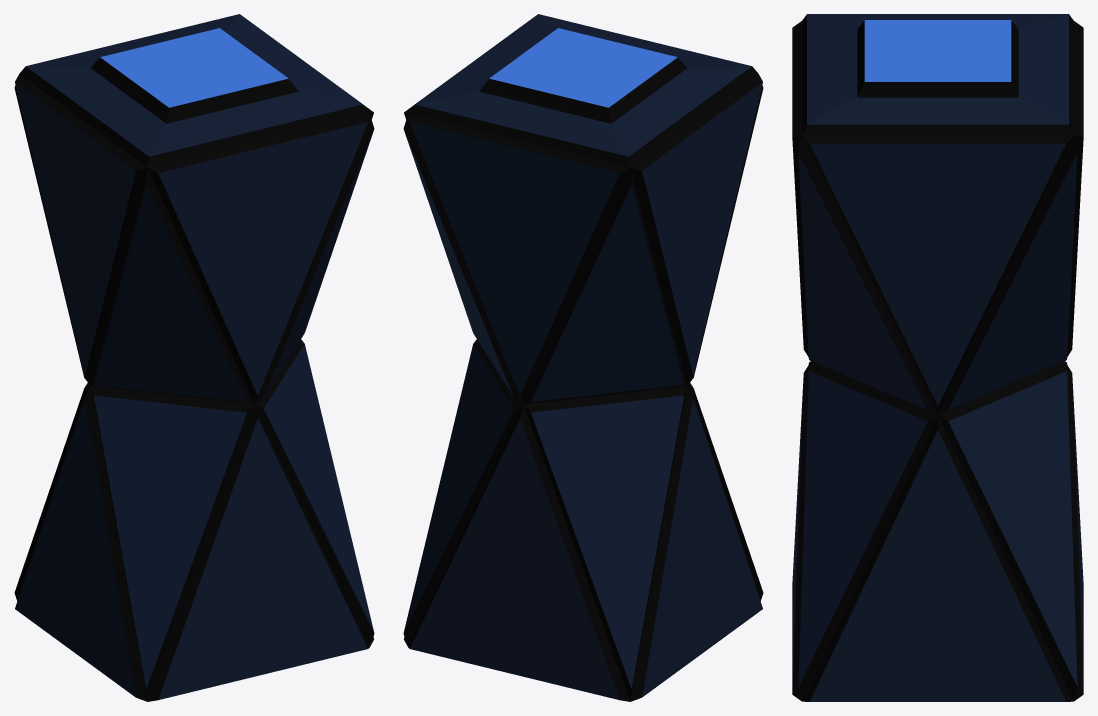
Rendered from Pedestal 1.FBX.
3 renders of one model, left to right at view 1: azimuth 30°, elevation 25°; view 2: azimuth 150°, elevation 25°; view 3: azimuth 270°, elevation 25°, orthographic. The views are drawn at different scales.
Visible parts, largest first — view 1: Pedestal; view 2: Pedestal; view 3: Pedestal.
Part boxes in pixels (x1,y1,x2,y2): Pedestal: [14, 14, 374, 701]; Pedestal: [403, 14, 763, 701]; Pedestal: [792, 14, 1083, 701].
Bounding box in the file's own units: 53.65 × 121 × 53.65.
